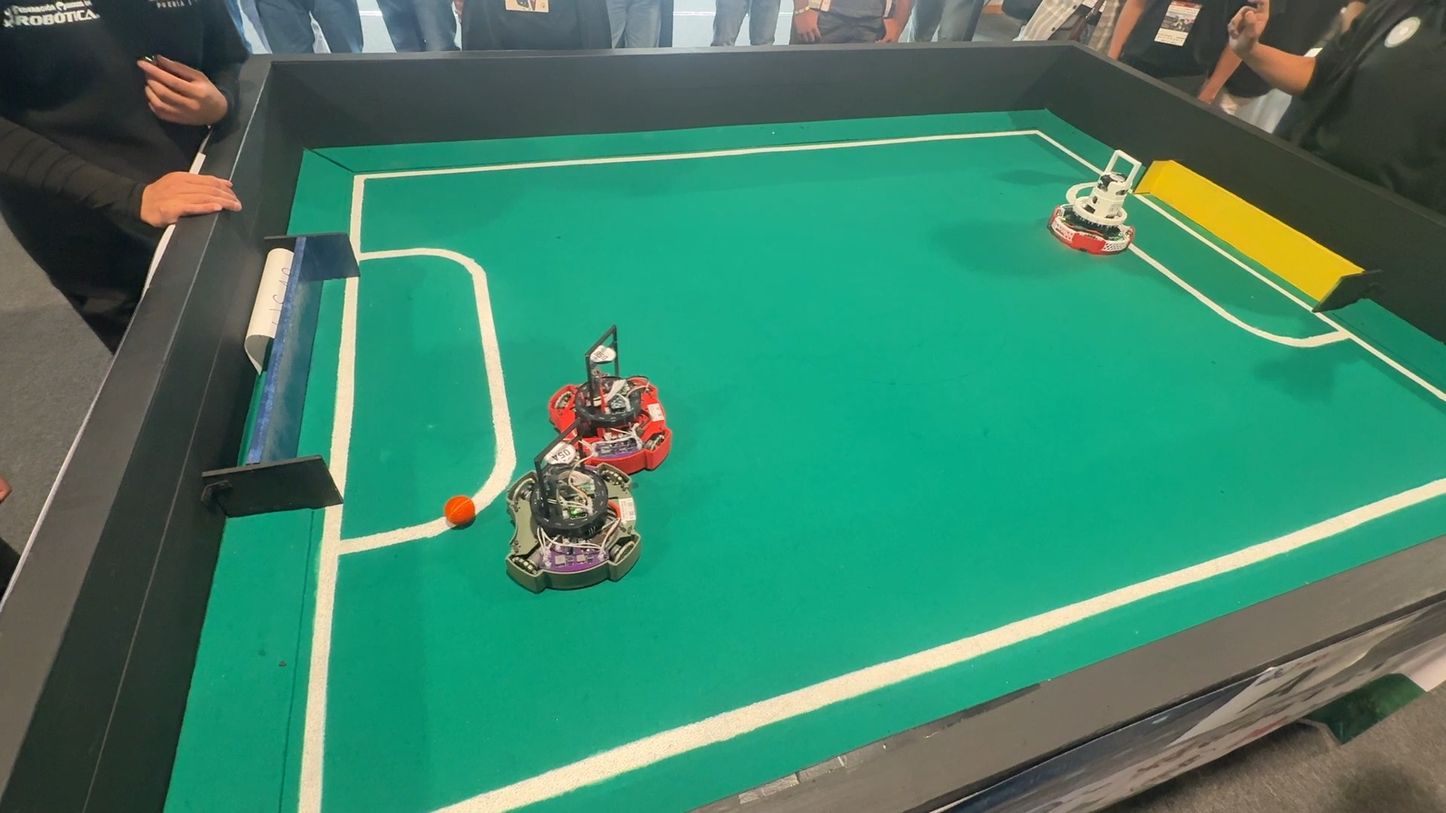Robot: (498, 435, 649, 604), (547, 326, 676, 475), (1039, 146, 1170, 266)
pelota: (443, 494, 481, 530)
